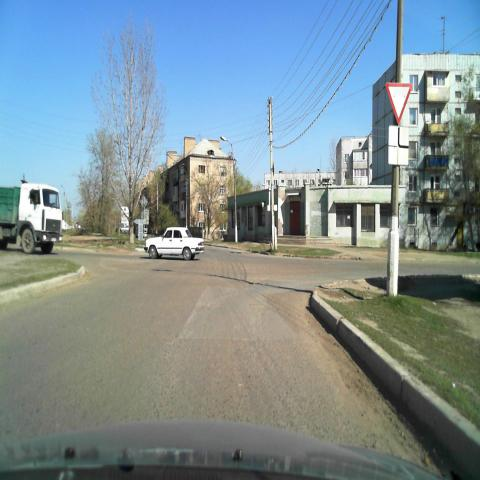8_13: (388, 126, 408, 165)
